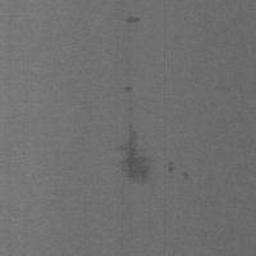Oil spot: (114, 120, 155, 186), (166, 159, 191, 182), (123, 15, 142, 24), (122, 84, 134, 95), (125, 105, 134, 113)
